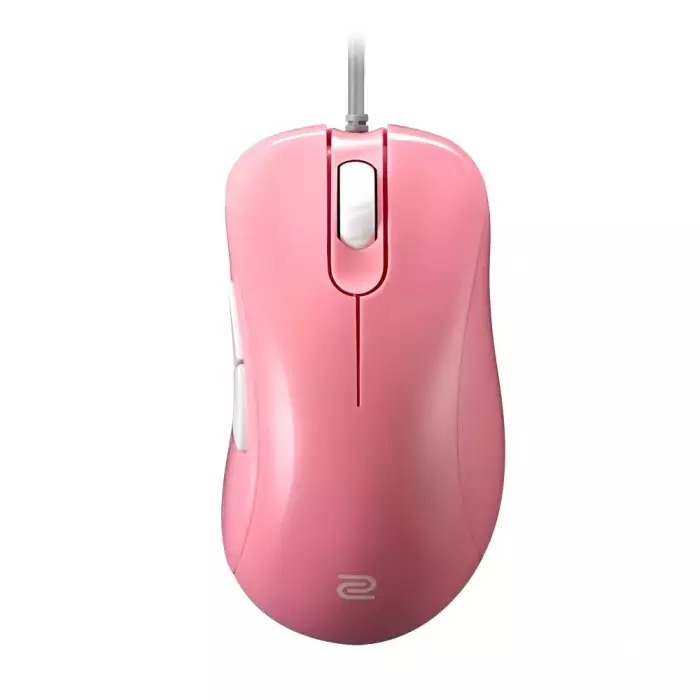mouse: (179, 115, 512, 645)
